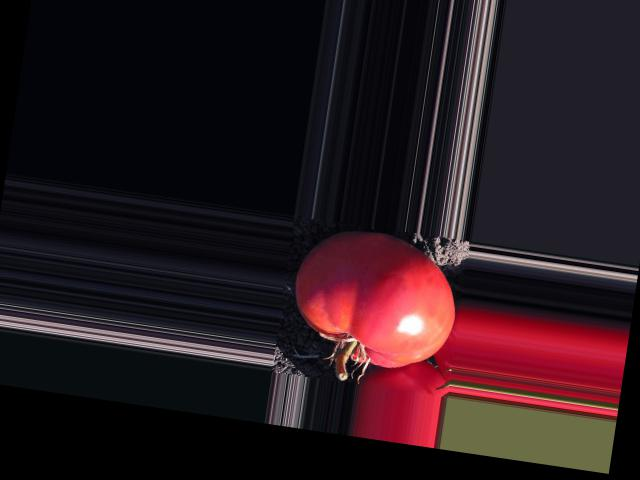tomato: (285, 221, 464, 375)
